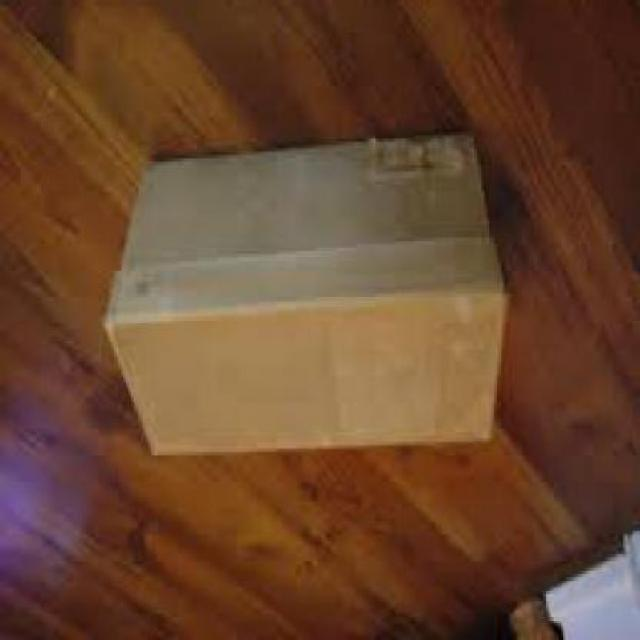box: (100, 133, 509, 462)
